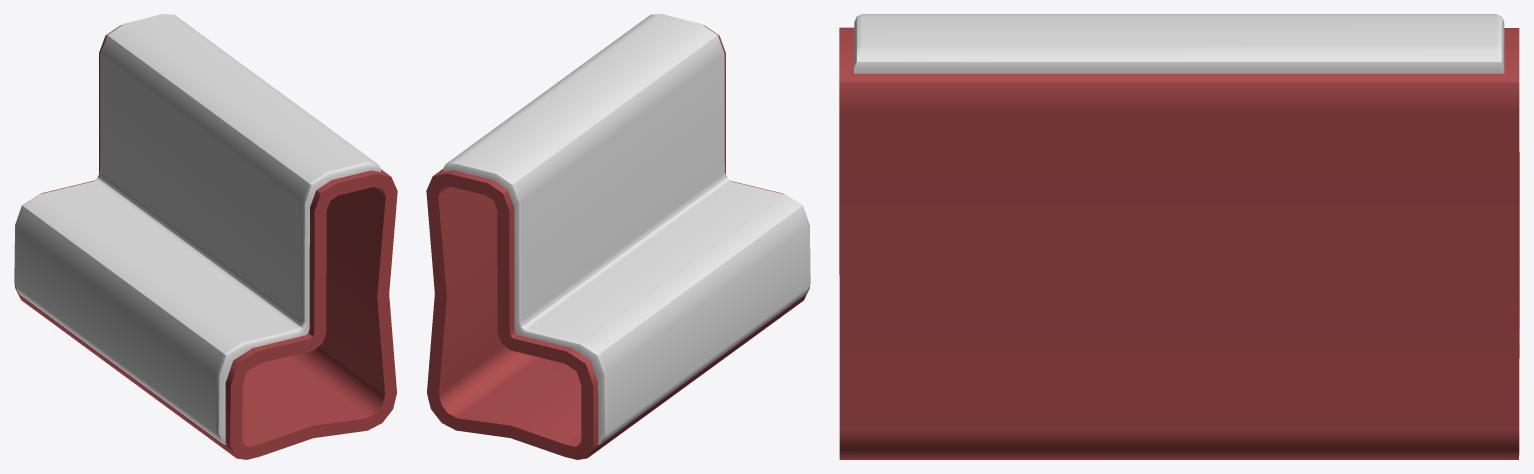
File: Bench01_mesh.fbx
The picture shows the model from 3 angles, left to right: view 1: azimuth 30°, elevation 25°; view 2: azimuth 150°, elevation 25°; view 3: azimuth 270°, elevation 25°; orthographic projection. The views are drawn at different scales.
Parts seen in each view (by area): view 1: Bench01_mesh; view 2: Bench01_mesh; view 3: Bench01_mesh.
Part boxes in pixels (x1,y1,x2,y2): Bench01_mesh: (14,14,397,459); Bench01_mesh: (426,14,810,459); Bench01_mesh: (839,14,1519,459).
Bounding box in the file's own units: 92.18 × 132 × 197.
